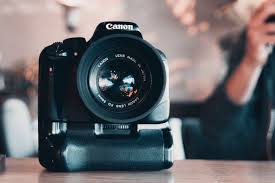camera: (37, 31, 169, 183), (37, 168, 168, 170)
